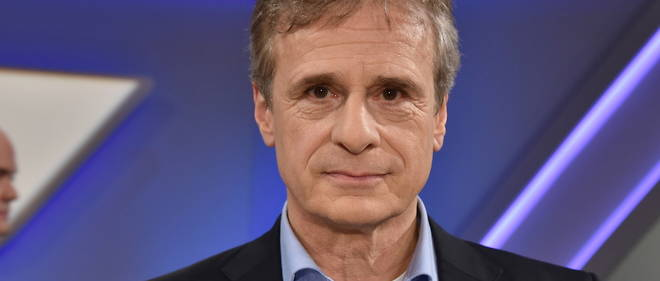without_mask: (278, 36, 427, 186)
